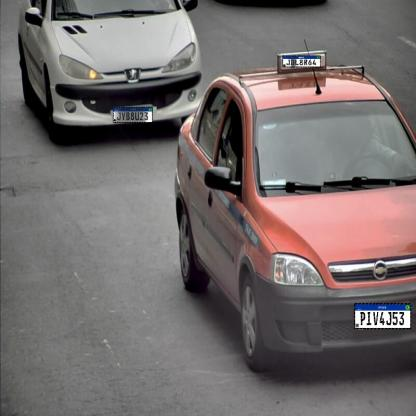PlacaM: (354, 303, 411, 329), (113, 107, 153, 122), (282, 56, 321, 68)
